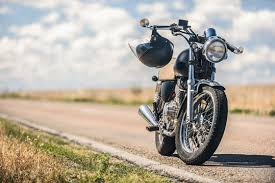motorcycle: (130, 16, 245, 164)
